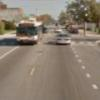buses: (14, 18, 45, 45)
